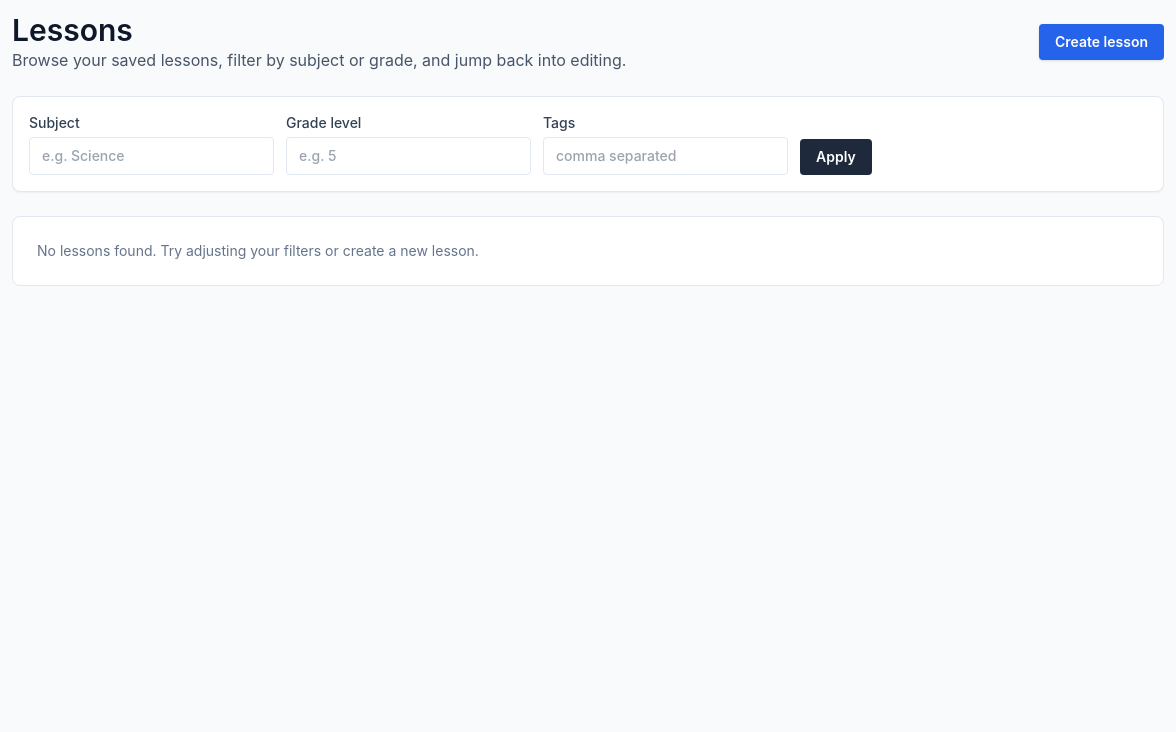
Test: LessonsPage › toggles the create lesson form
What coordinates should you click on to do the following:
click the button "Create lesson"
I would click on:
 (1102, 42)
Its box is [1039, 24, 1164, 60].
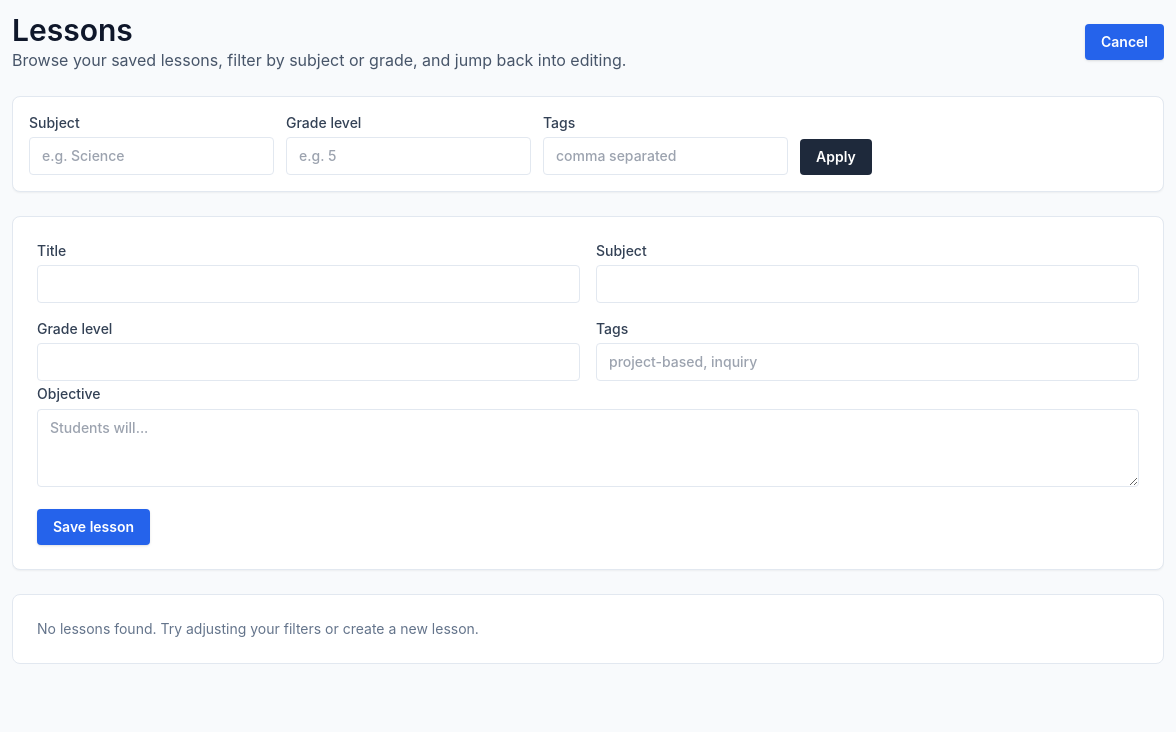
Now the button "Save lesson" is shown, box [37, 509, 150, 545]
